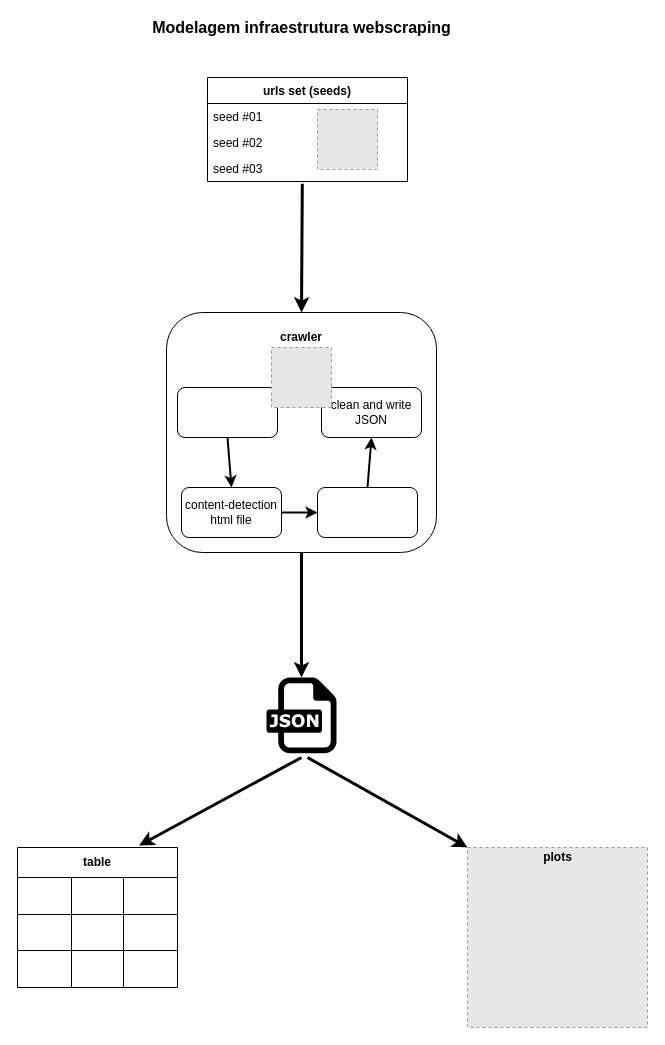
Image size: 665x1045. Some labels were removed from this diagram. Grey dashed boxes stand in for pictures. The centre of each missing label's shape, as x and y in pixels:
"data extraction" goes at (x=367, y=512).
"request" goes at (x=227, y=412).
